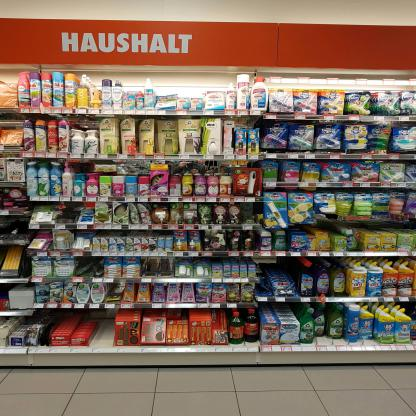Void: (99, 313, 112, 341), (77, 162, 89, 171)
